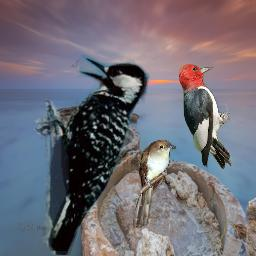Cuckoo: (133, 139, 176, 228)
Woodpecker: (34, 54, 153, 255), (179, 63, 233, 169)
